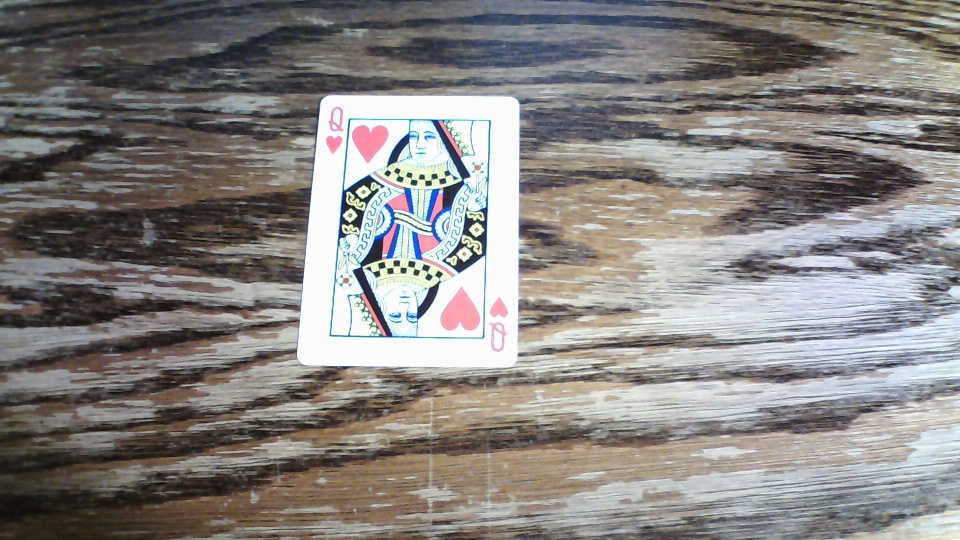queen: (296, 94, 522, 370)
